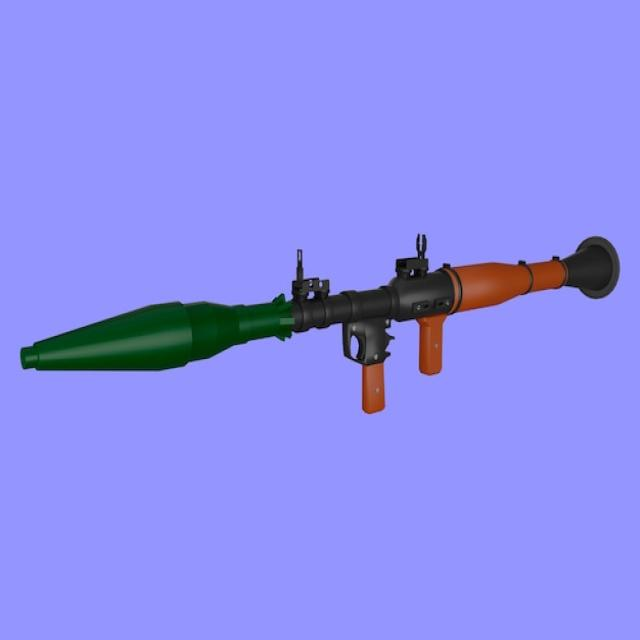Gun: (12, 249, 640, 436)
